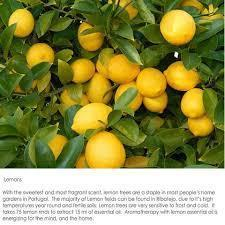lemon: (70, 102, 112, 136), (86, 131, 124, 168), (160, 10, 196, 45), (164, 60, 200, 92), (108, 54, 140, 84), (136, 68, 167, 97), (115, 80, 142, 112), (86, 72, 112, 104), (181, 88, 206, 118), (8, 9, 34, 37), (78, 22, 103, 51), (26, 42, 54, 66), (70, 58, 95, 83), (108, 0, 138, 20), (144, 91, 168, 113), (60, 88, 89, 106), (188, 116, 213, 136), (48, 134, 66, 160), (96, 55, 110, 78)
